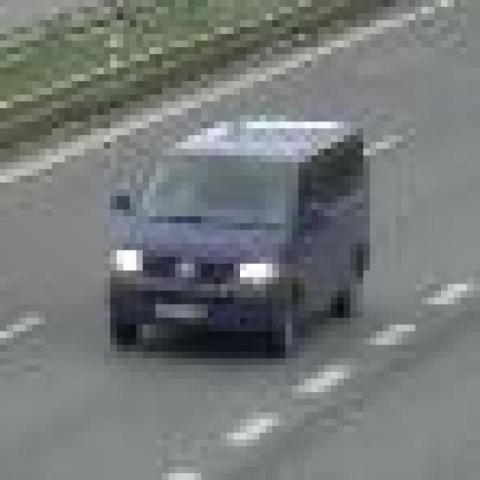van: (113, 122, 367, 352)
